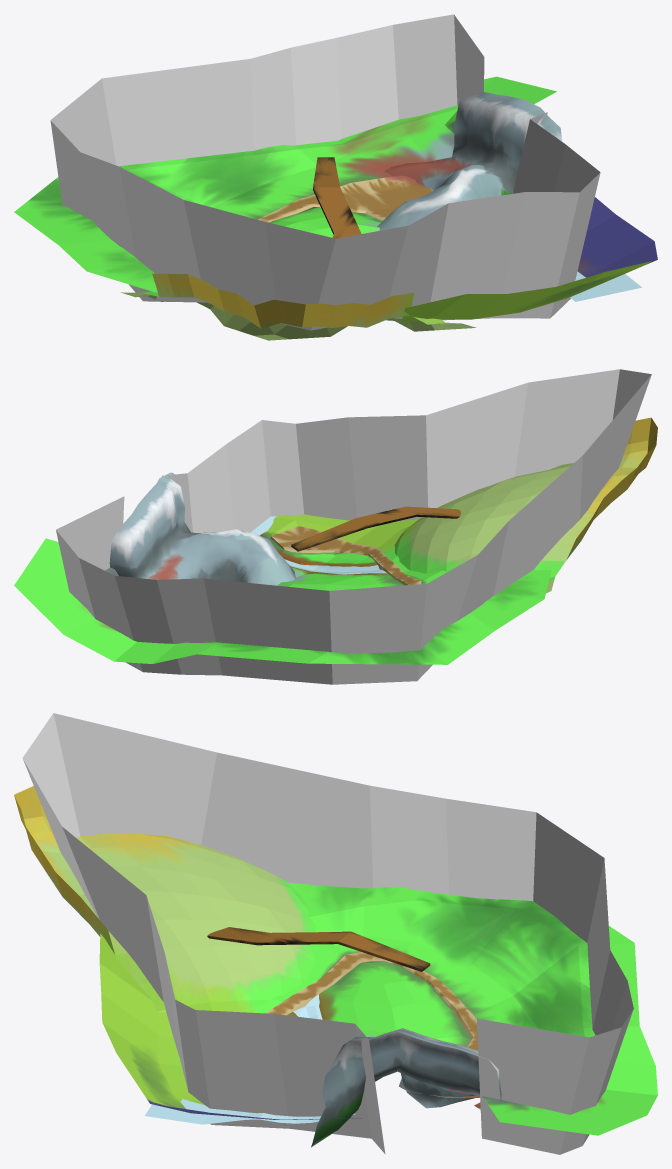
File: dust_sheffield.fbx
3 renders of one model, top to bottom at view 1: azimuth 30°, elevation 25°; view 2: azimuth 150°, elevation 25°; view 3: azimuth 270°, elevation 25°, orthographic. The views are drawn at different scales.
Parts seen in each view (by area): view 1: grounds_invis_wall, grounds, east_mountain, corner_hill, path, walk_bridge, water; view 2: grounds_invis_wall, grounds, corner_hill, east_mountain, path, walk_bridge, water; view 3: grounds_invis_wall, grounds, corner_hill, east_mountain, path, walk_bridge, water.
Part boxes in pixels (<box>): grounds_invis_wall: <box>50,14,600,330</box>; grounds: <box>14,76,657,321</box>; east_mountain: <box>377,92,561,230</box>; corner_hill: <box>121,273,476,340</box>; path: <box>257,175,433,222</box>; walk_bridge: <box>313,157,361,238</box>; water: <box>570,271,641,301</box>; grounds_invis_wall: <box>56,369,651,684</box>; grounds: <box>14,514,551,664</box>; corner_hill: <box>394,417,657,593</box>; east_mountain: <box>109,472,295,585</box>; path: <box>270,526,421,585</box>; walk_bridge: <box>291,506,460,551</box>; water: <box>250,516,386,574</box>; grounds_invis_wall: <box>22,713,633,1154</box>; grounds: <box>99,882,657,1135</box>; corner_hill: <box>14,786,316,1012</box>; east_mountain: <box>311,1028,501,1147</box>; path: <box>265,952,480,1097</box>; walk_bridge: <box>207,927,430,971</box>; water: <box>145,994,355,1124</box>.
Size of the model in its own units: 9538 by 4770 by 9972.
Materials: 6 (6 with a texture image).
